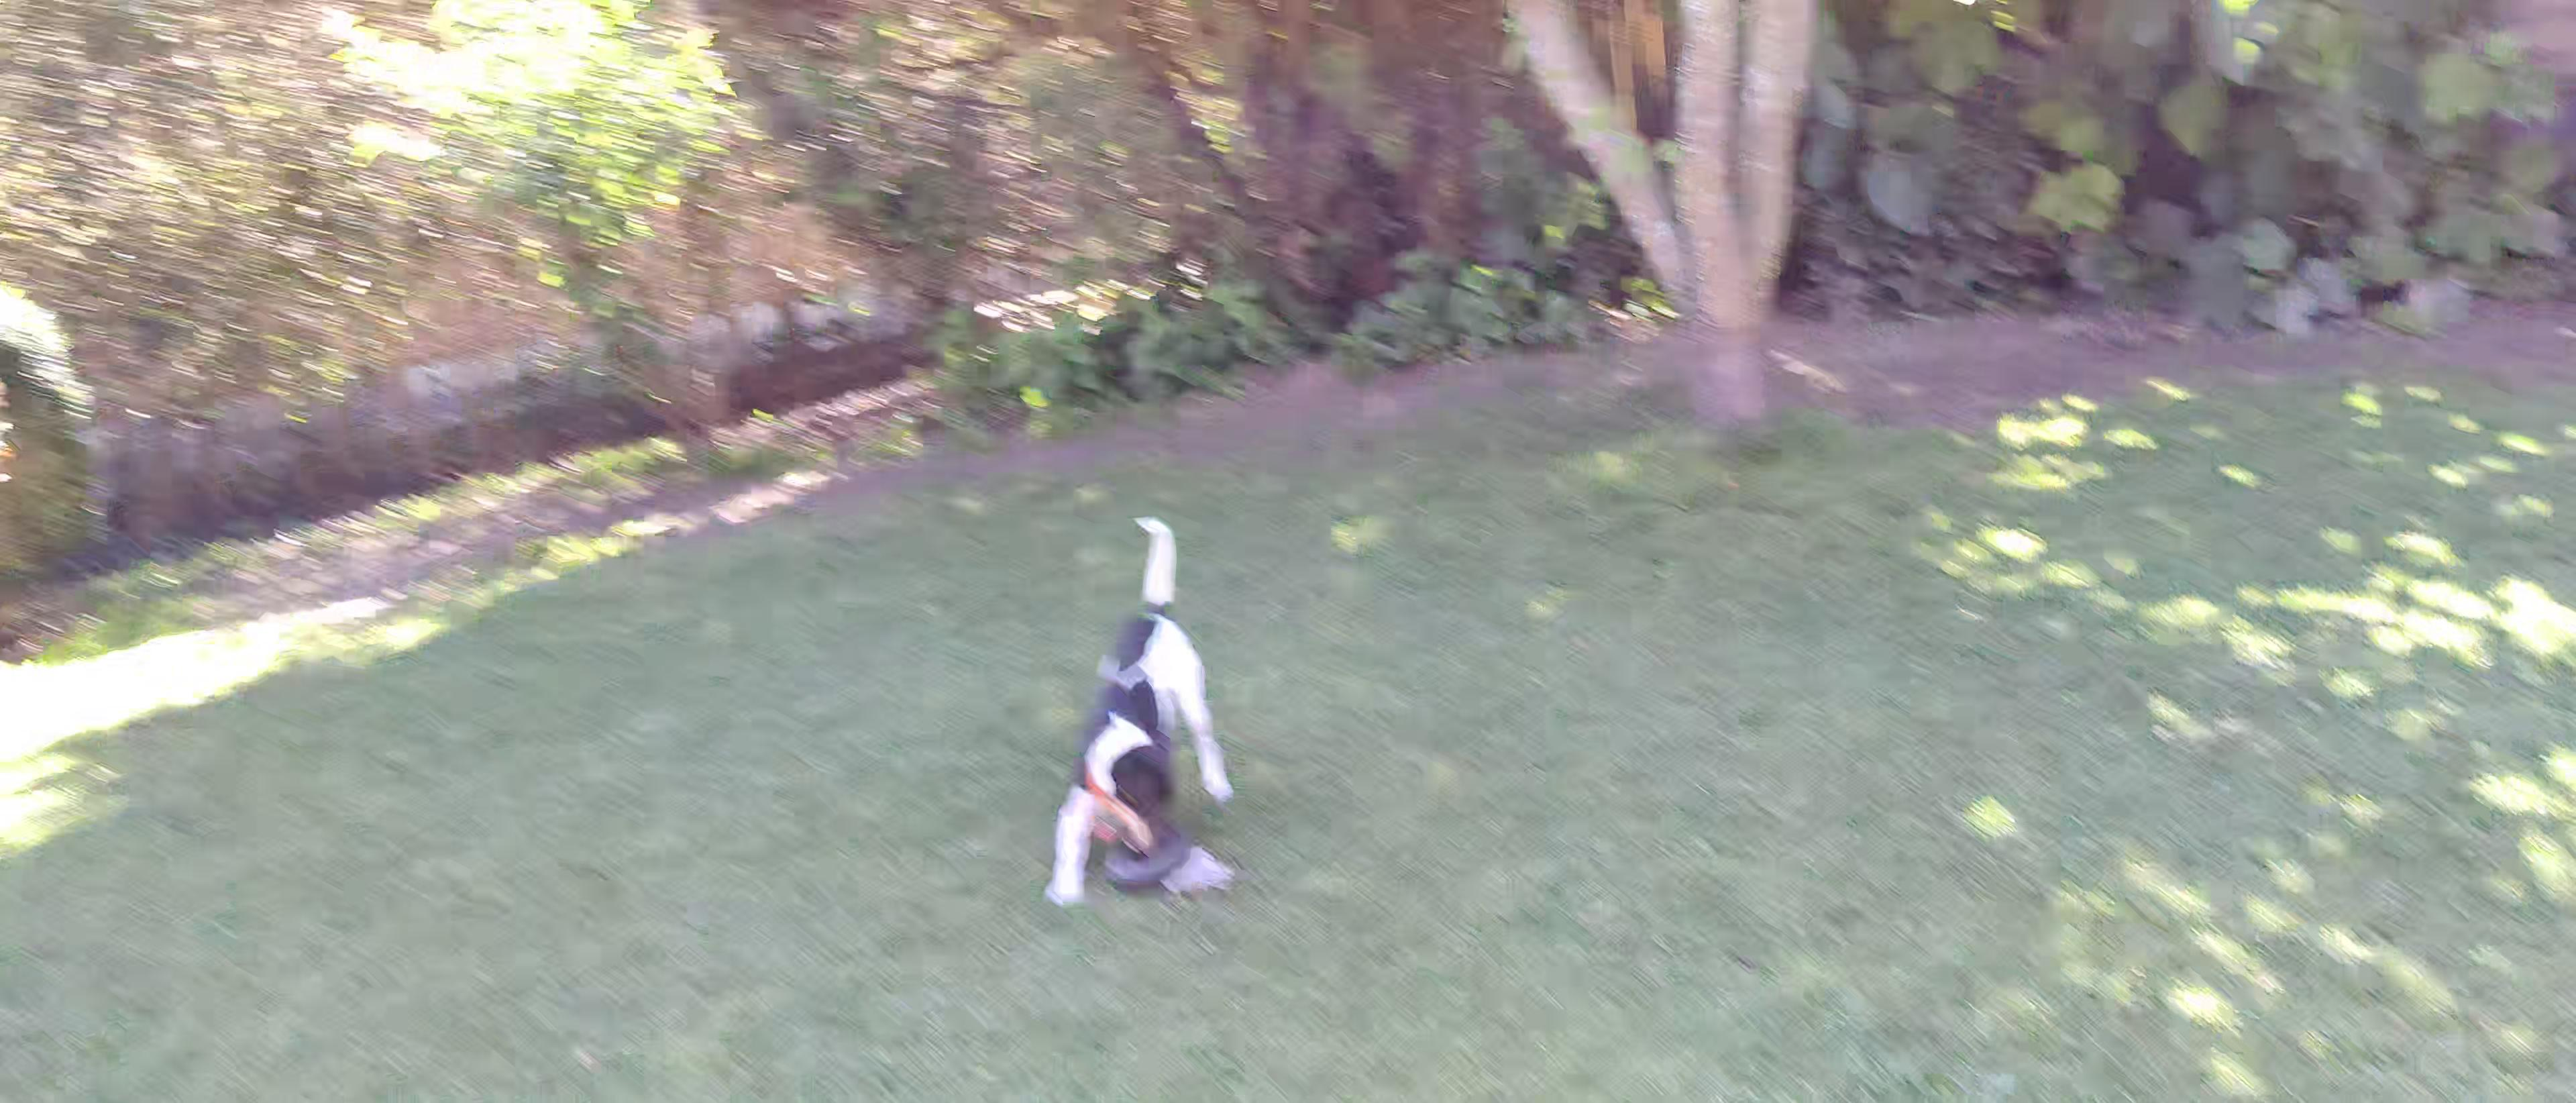Dog: (1028, 511, 1240, 916)
